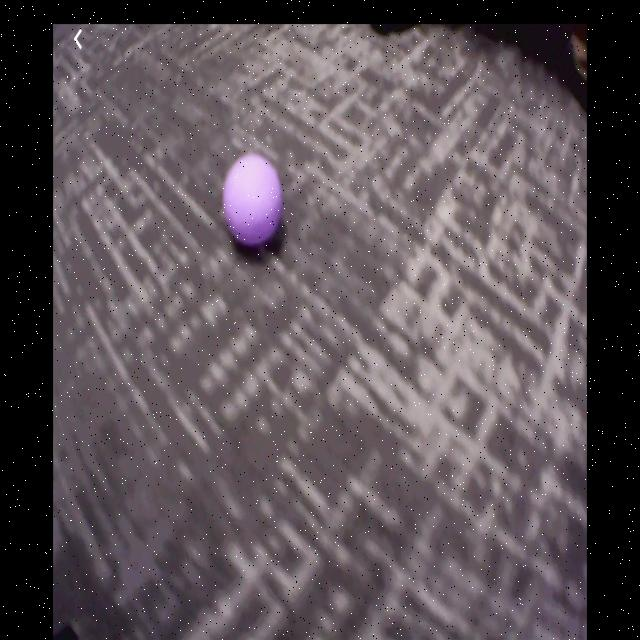ball: (224, 156, 282, 247)
